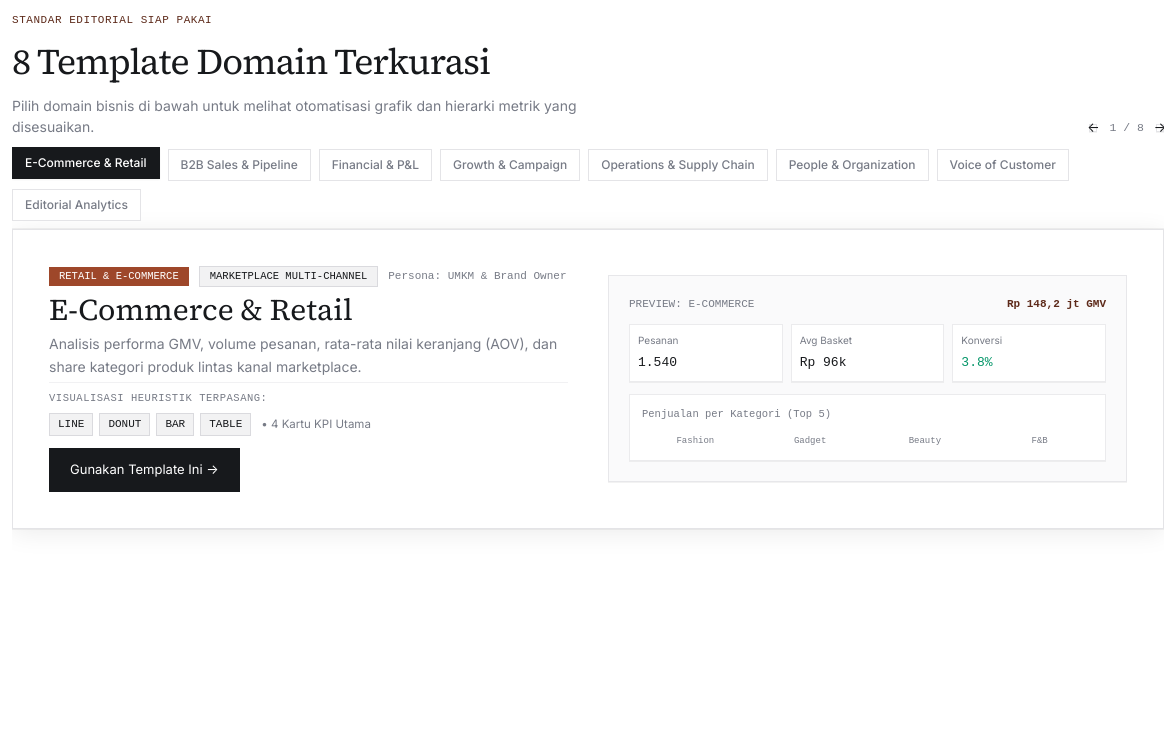
Scenario: Landing Page & Editorial Showcase › renders TemplateShowcase and switches active template tabs
The image size is (1176, 732).
expect the heading "8 Template Domain Terkurasi" is shown: met, box left=12, top=36, right=490, bottom=86
expect the button "E-Commerce & Retail" is shown: met, box left=12, top=146, right=160, bottom=178
Click Sales tab
What coordinates should you click on to do the following:
click the button "B2B Sales & Pipeline"
I would click on:
 (239, 164)
Its box is left=168, top=148, right=311, bottom=180.
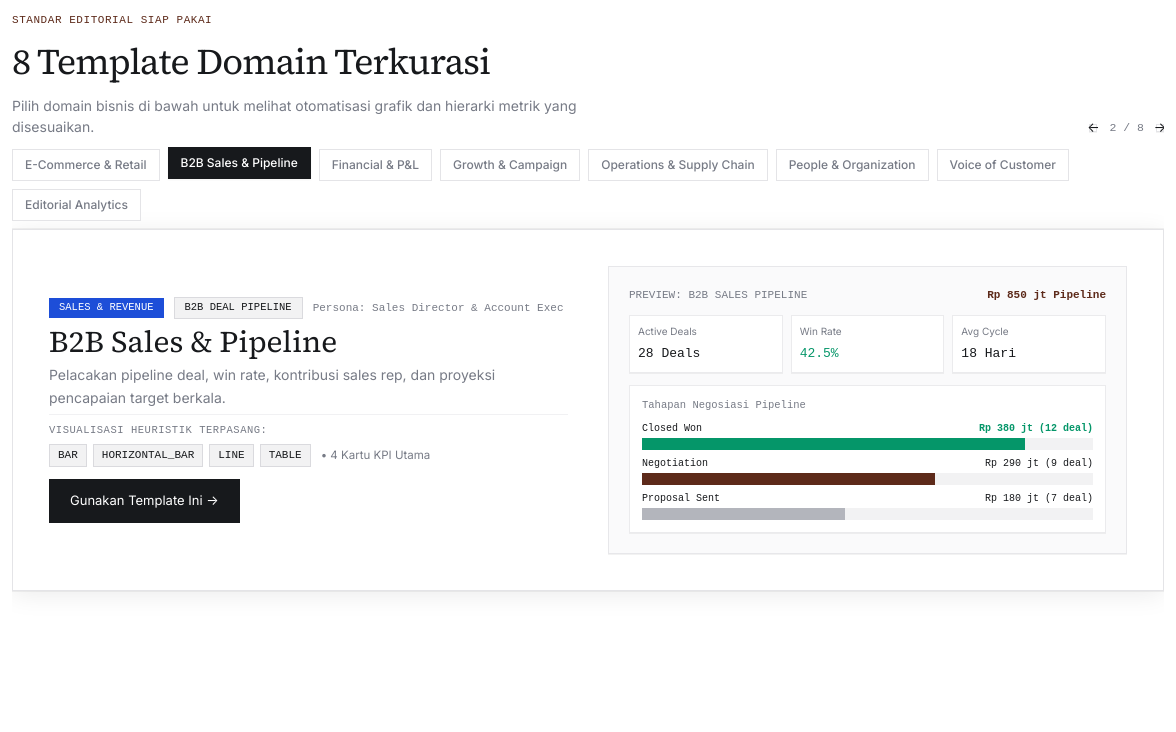
expect the text "Pelacakan pipeline deal" is shown: met, box left=49, top=366, right=495, bottom=406
